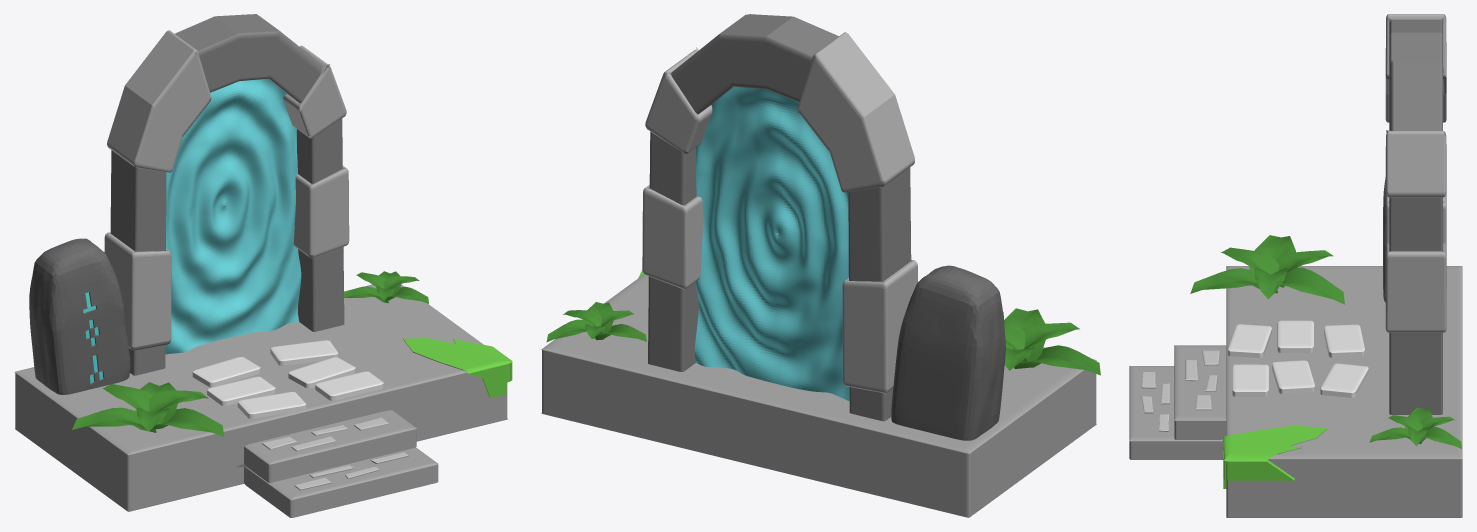
Rendered from Gateway Gezeitenwald.fbx.
3 views of the same model, side by side, from view 1: azimuth 30°, elevation 25°; view 2: azimuth 150°, elevation 25°; view 3: azimuth 270°, elevation 25° (orthographic). The views are drawn at different scales.
Parts seen in each view (by area): view 1: Cube, Plane, Plane.001, Cube.007, Plane.002, Plane.003, Cube.003, Cube.006, Cube.001, Cube.004, Cube.002, Cube.005; view 2: Plane, Cube, Plane.001, Cube.007, Plane.002, Plane.003; view 3: Cube, Plane, Plane.002, Plane.003, Cube.004, Cube.003, Cube.005, Cube.001, Cube.006, Cube.002.
Part boxes in pixels (bbox=[...]): Cube: bbox=[14, 284, 512, 517]; Plane: bbox=[104, 14, 349, 375]; Plane.001: bbox=[165, 78, 301, 354]; Cube.007: bbox=[29, 238, 130, 394]; Plane.002: bbox=[72, 382, 224, 436]; Plane.003: bbox=[344, 271, 428, 303]; Cube.003: bbox=[237, 392, 306, 418]; Cube.006: bbox=[315, 371, 383, 400]; Cube.001: bbox=[192, 357, 260, 387]; Cube.004: bbox=[270, 340, 338, 365]; Cube.002: bbox=[207, 376, 275, 405]; Cube.005: bbox=[288, 357, 355, 388]; Plane: bbox=[642, 14, 917, 421]; Cube: bbox=[541, 270, 1096, 517]; Plane.001: bbox=[694, 86, 849, 401]; Cube.007: bbox=[891, 265, 1005, 440]; Plane.002: bbox=[1004, 308, 1100, 375]; Plane.003: bbox=[546, 302, 646, 342]; Cube: bbox=[1129, 266, 1462, 517]; Plane: bbox=[1385, 14, 1446, 414]; Plane.002: bbox=[1190, 235, 1344, 304]; Plane.003: bbox=[1369, 407, 1461, 448]; Cube.004: bbox=[1320, 363, 1368, 397]; Cube.003: bbox=[1227, 324, 1271, 357]; Cube.005: bbox=[1272, 360, 1314, 393]; Cube.001: bbox=[1324, 324, 1364, 357]; Cube.006: bbox=[1232, 364, 1268, 396]; Cube.002: bbox=[1277, 320, 1313, 352].
Bounding box in the file's own units: 652 × 564 × 437.
